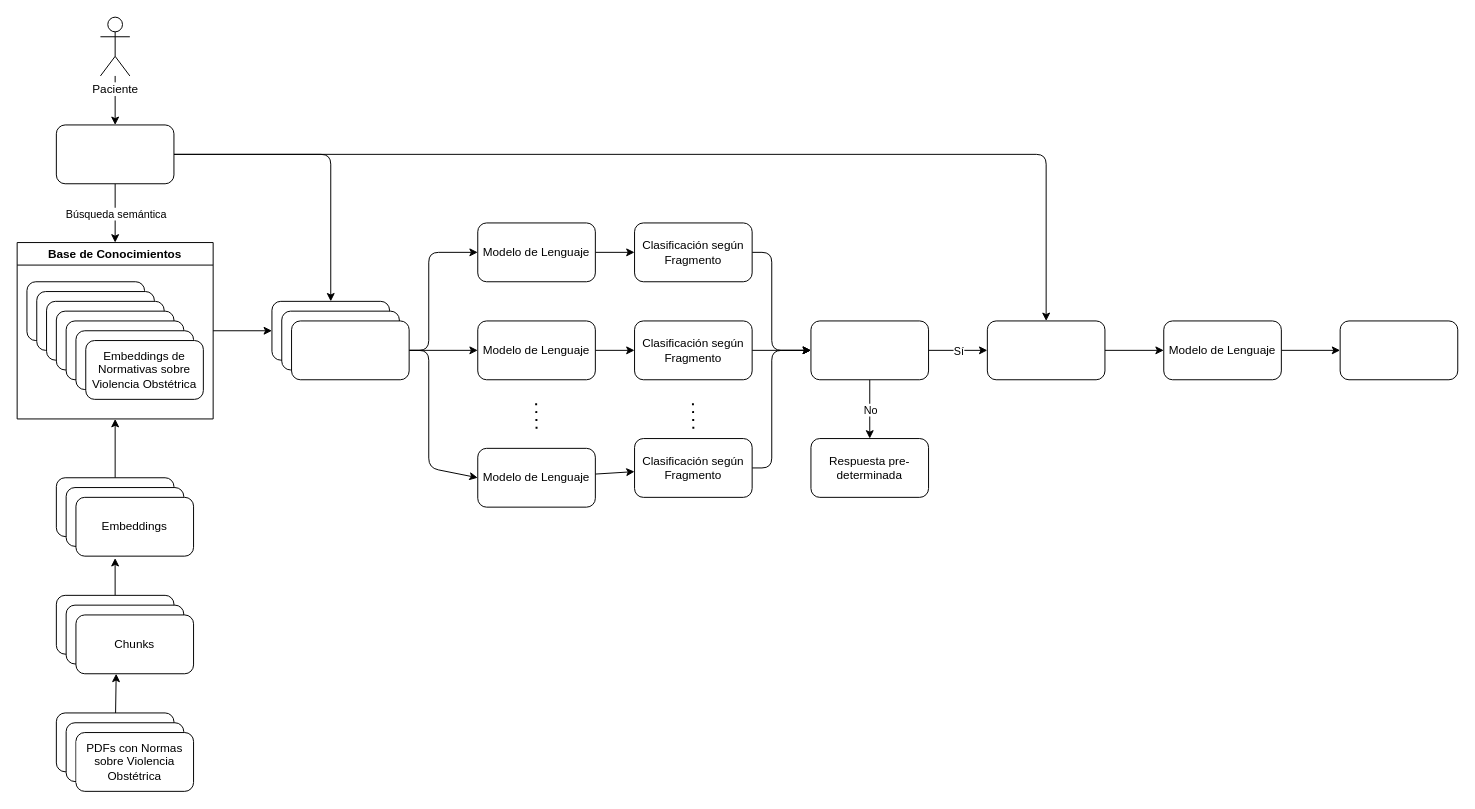
Image size: 1475x809. Some labels were removed from this diagram. The centre of each missing label's shape, as x and y in pixels:
"Consulta" goes at point (114, 154).
"Existe resultado positivo" goes at point (869, 350).
"Fragmento de Normativa según el Cual Existe Violencia Obstétrica" goes at point (1045, 350).
"Fragmentos Relevantes de la Normativa" goes at point (350, 350).
"Respuesta Final" goes at point (1398, 350).
